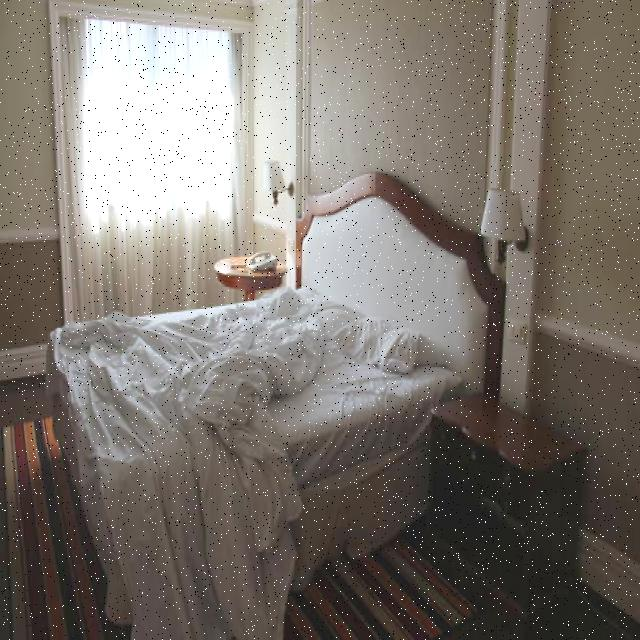bed: (42, 276, 466, 640)
